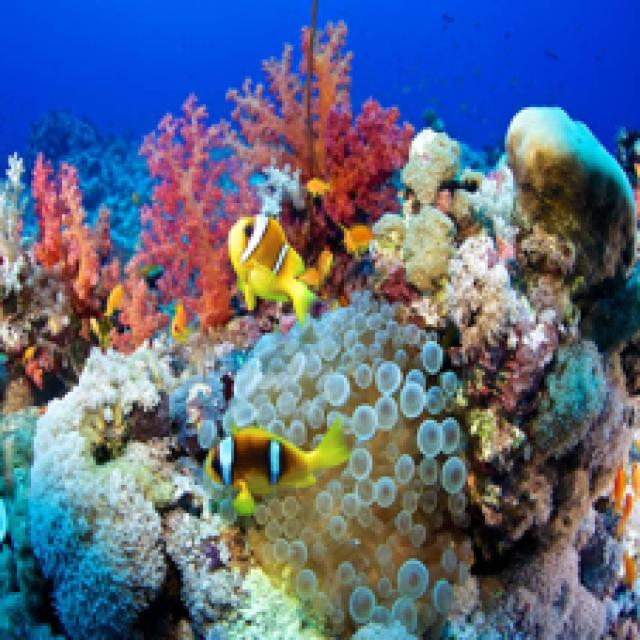Bleached: (401, 128, 458, 204), (407, 207, 455, 291)
Healthy: (229, 305, 472, 630), (32, 49, 305, 322), (29, 348, 165, 635), (283, 24, 407, 260)
